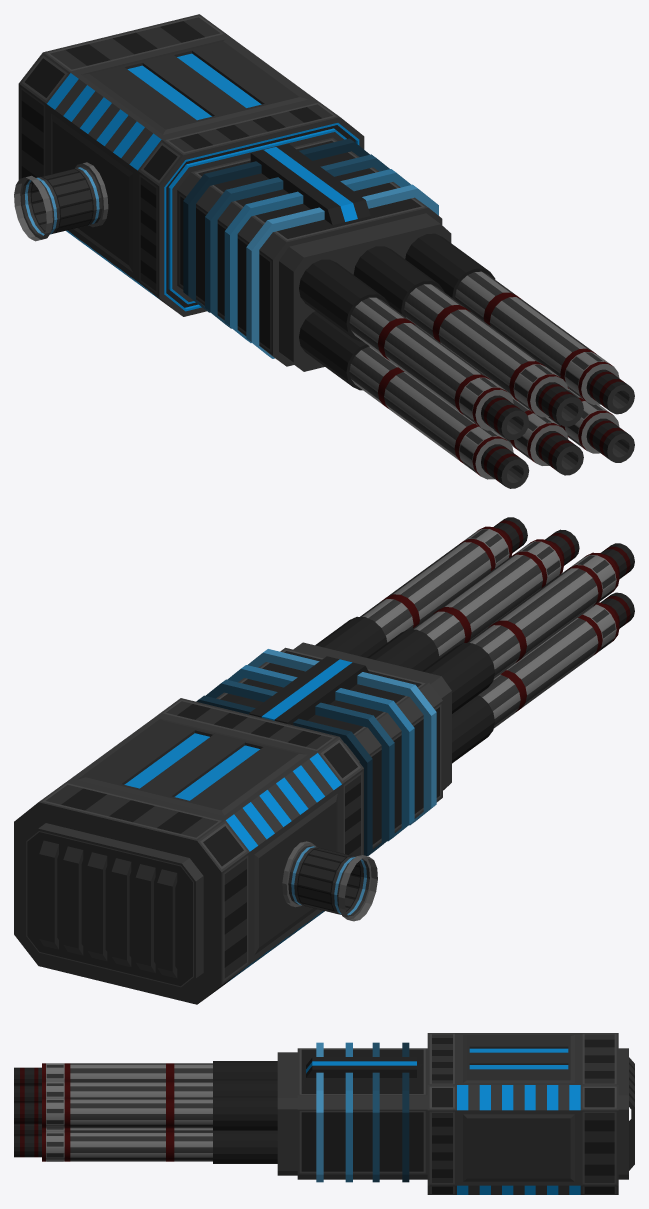
The model's file is GGTg.FBX.
The picture shows the model from 3 angles, top to bottom: view 1: azimuth 30°, elevation 25°; view 2: azimuth 150°, elevation 25°; view 3: azimuth 270°, elevation 25°; orthographic projection. The views are drawn at different scales.
Visible parts, largest first — view 1: GGT; view 2: GGT; view 3: GGT.
Boxes of the visible parts, <box> form: GGT: <box>14,14,634,488</box>; GGT: <box>14,517,634,1004</box>; GGT: <box>14,1033,634,1194</box>.
Size of the model in its own units: 173 by 101 by 508.
